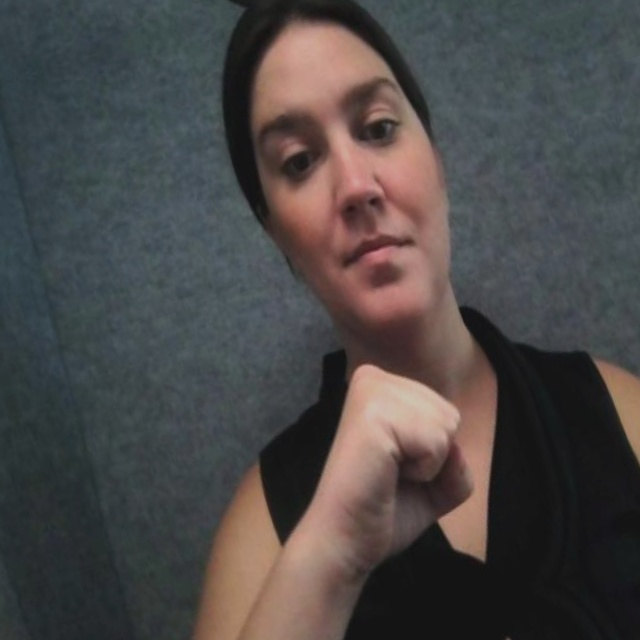Rock: (262, 328, 518, 607)
